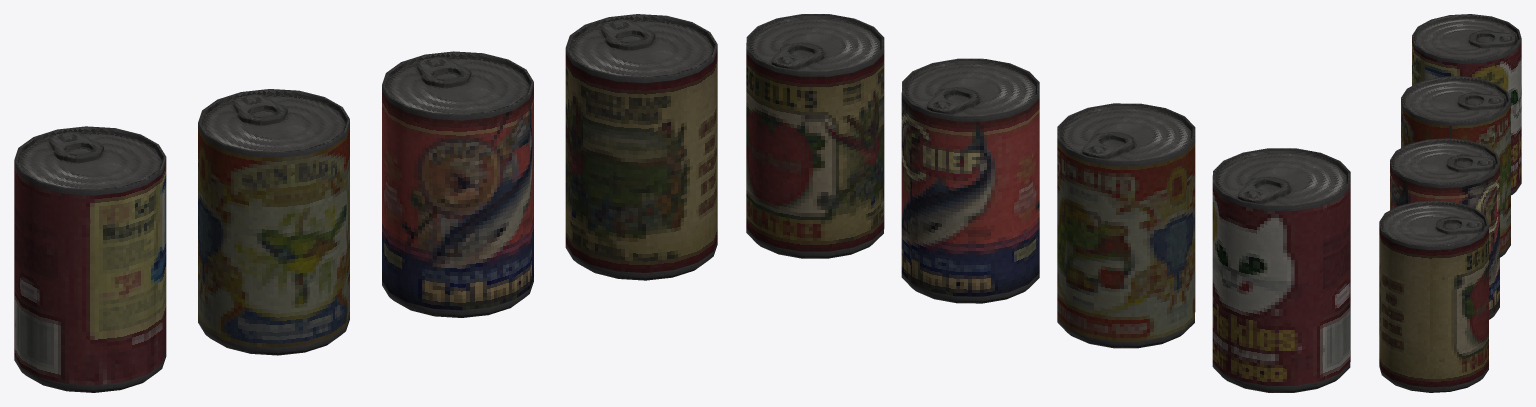
The model's file is cannedfood.glb.
3 renders of one model, left to right at view 1: azimuth 30°, elevation 25°; view 2: azimuth 150°, elevation 25°; view 3: azimuth 270°, elevation 25°, orthographic. The views are drawn at different scales.
Visible parts, largest first — view 1: canned_food_4, canned_food_1, canned_food_3, canned_food_2; view 2: canned_food_3, canned_food_2, canned_food_1, canned_food_4; view 3: canned_food_4, canned_food_2, canned_food_1, canned_food_3.
Boxes of the visible parts, x1,y1,x2,y2 form: canned_food_4: (565, 14, 717, 280); canned_food_1: (14, 126, 166, 392); canned_food_3: (382, 51, 533, 317); canned_food_2: (198, 89, 349, 355); canned_food_3: (901, 58, 1039, 303); canned_food_2: (1057, 103, 1195, 348); canned_food_1: (1212, 148, 1350, 392); canned_food_4: (746, 14, 884, 258); canned_food_4: (1379, 200, 1488, 392); canned_food_2: (1401, 76, 1510, 257); canned_food_1: (1412, 14, 1521, 195); canned_food_3: (1390, 138, 1499, 319).
Size of the model in its own units: 1.1 by 0.3301 by 0.285.
Materials: 1 (1 with a texture image).
